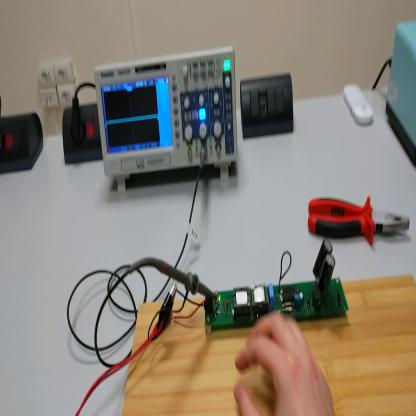hand: (234, 313, 336, 416)
high voltage board: (173, 235, 349, 333)
oscilloscope: (93, 43, 240, 197)
oscilloscope probe tip: (143, 255, 216, 298)
pliers: (307, 189, 412, 249)
socket: (64, 100, 104, 167), (1, 115, 45, 175)
welder station: (386, 18, 416, 171)
working area: (122, 269, 416, 414)
